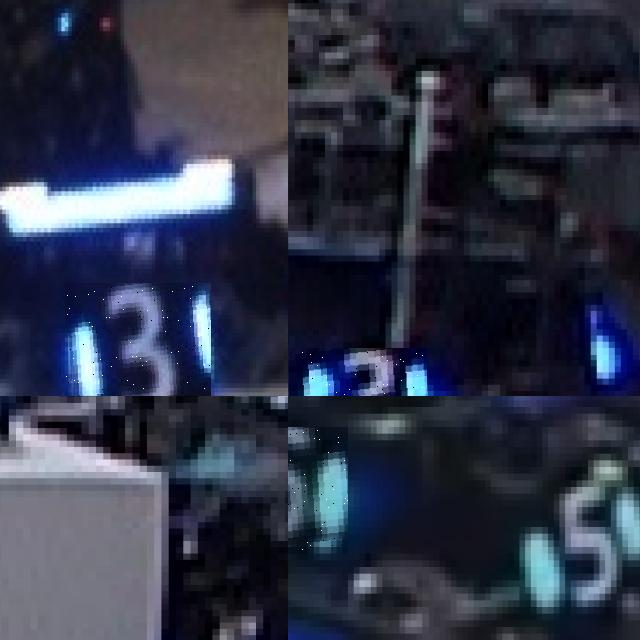B2: (288, 348, 427, 396)
B3: (65, 282, 211, 396)
B5: (519, 466, 640, 600), (288, 427, 347, 553)
